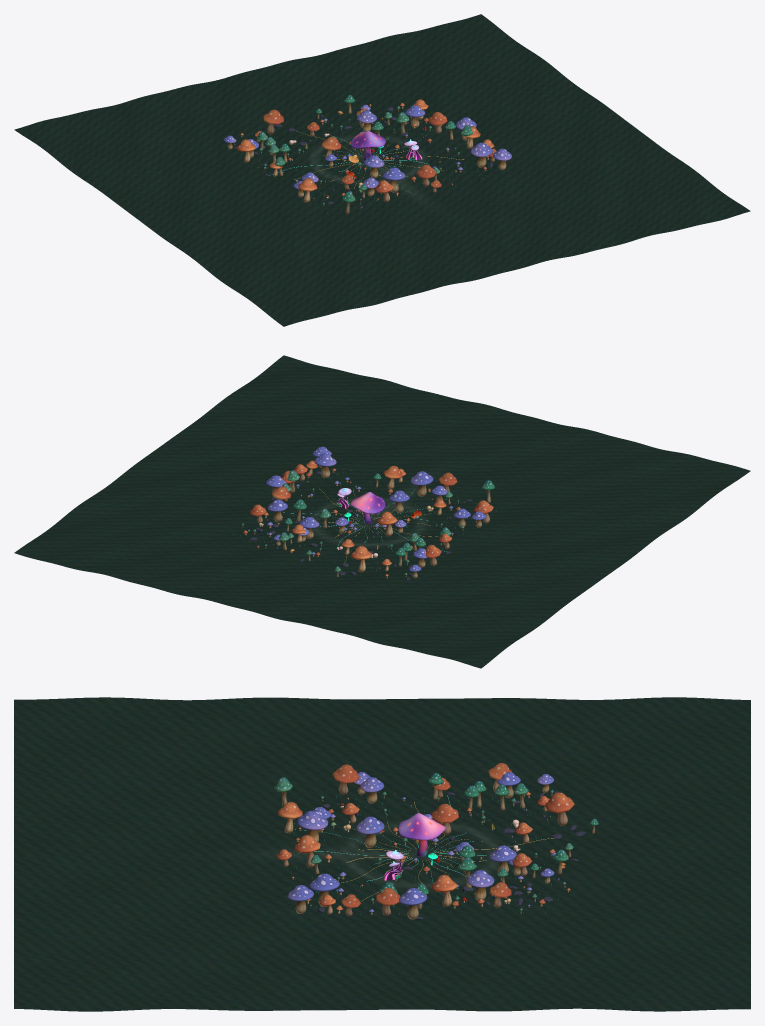
File: psylo-static-low.glb
3 views of the same model, one above another, from view 1: azimuth 30°, elevation 25°; view 2: azimuth 150°, elevation 25°; view 3: azimuth 270°, elevation 25° (orthographic). The views are drawn at different scales.
Visible parts, largest first — view 1: psylo.terrain, psylo.source.1.M_Mushroom_Small, psylo.source.1.M_Mushroom_Large, psylo.source.1.M_Mushroom_Thin, psylo.source.0.mushroms; view 2: psylo.terrain, psylo.source.1.M_Mushroom_Large, psylo.source.1.M_Mushroom_Small, psylo.source.1.M_Mushroom_Thin, psylo.source.0.mushroms; view 3: psylo.terrain, psylo.source.1.M_Mushroom_Small, psylo.source.1.M_Mushroom_Large, psylo.source.1.M_Mushroom_Thin, psylo.source.0.mushroms, psylo.stone.
Part boxes in pixels (<box>): psylo.terrain: <box>14,14,750,326</box>; psylo.source.1.M_Mushroom_Small: <box>237,99,496,202</box>; psylo.source.1.M_Mushroom_Large: <box>224,104,511,197</box>; psylo.source.1.M_Mushroom_Thin: <box>234,95,491,214</box>; psylo.source.0.mushroms: <box>348,131,385,166</box>; psylo.terrain: <box>14,355,750,668</box>; psylo.source.1.M_Mushroom_Large: <box>248,446,486,578</box>; psylo.source.1.M_Mushroom_Small: <box>243,460,493,578</box>; psylo.source.1.M_Mushroom_Thin: <box>241,470,495,577</box>; psylo.source.0.mushroms: <box>344,492,385,523</box>; psylo.terrain: <box>14,697,750,1011</box>; psylo.source.1.M_Mushroom_Small: <box>276,763,574,916</box>; psylo.source.1.M_Mushroom_Large: <box>288,772,559,919</box>; psylo.source.1.M_Mushroom_Thin: <box>274,773,598,913</box>; psylo.source.0.mushroms: <box>398,813,446,865</box>; psylo.stone: <box>293,791,585,919</box>.
Bounding box in the file's own units: 150 × 9.72 × 150.
Materials: 19 (10 with a texture image).
